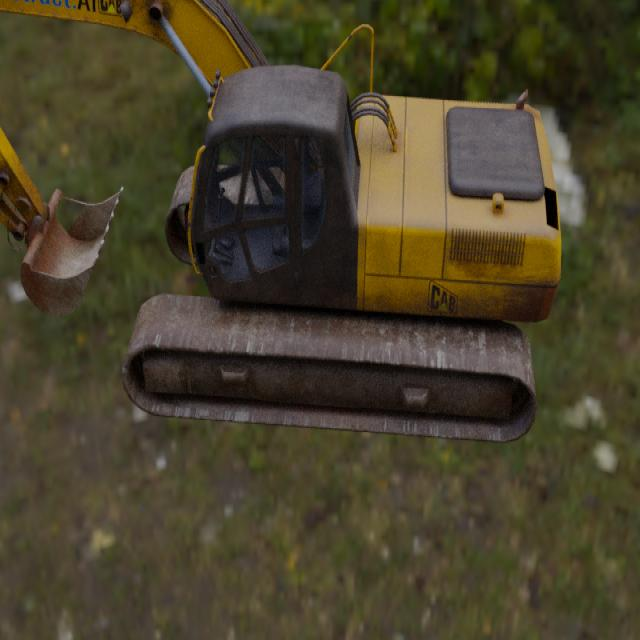excavator: (0, 0, 562, 444)
